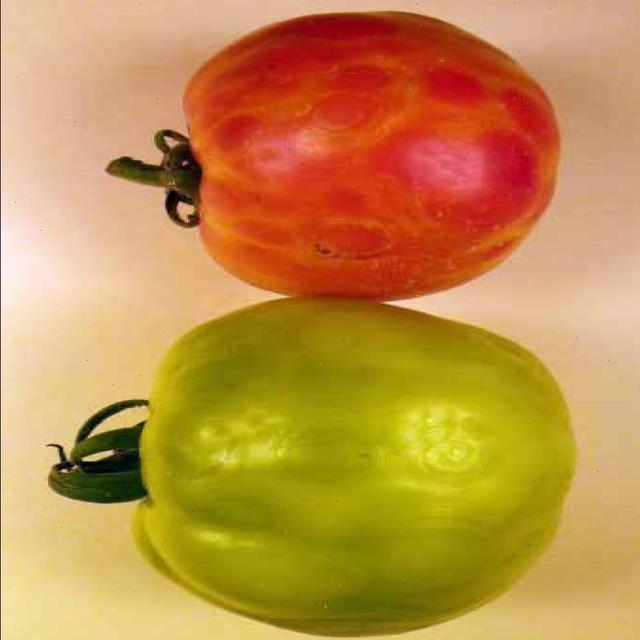Spotted wilt Virus Fruit: (261, 25, 361, 213)
